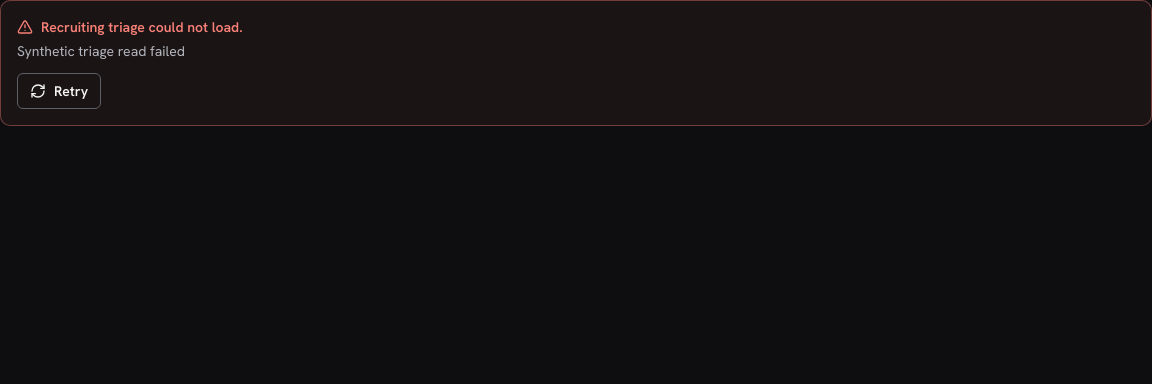
Scenario: Recruiting triage verified reads › shows a failed read with Retry rather than all-clear and can recover
Check: the message shows "Synthetic triage read failed", box x1=17 y1=42 x2=185 y2=60
Check: the text "Applicants shown" is not shown
Step 1. Click the button "Retry" → (59, 91), box x1=17 y1=73 x2=101 y2=109
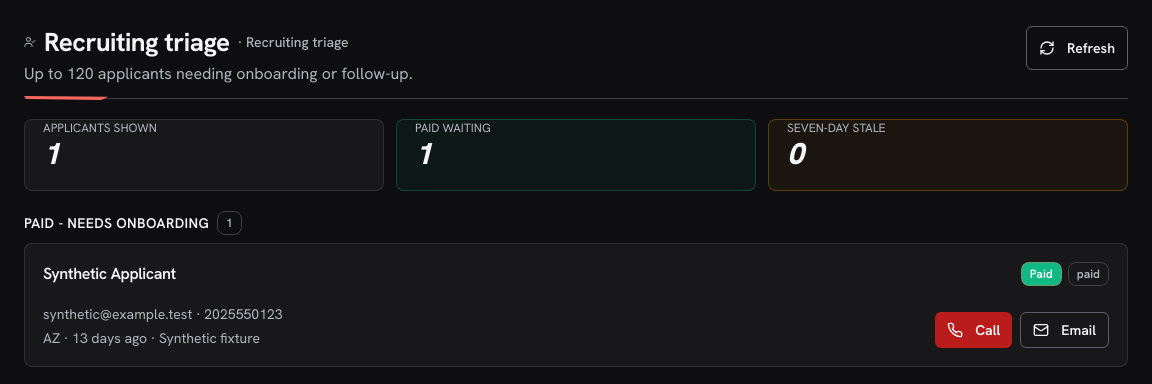
Check: the heading "Synthetic Applicant" is shown, box x1=43 y1=262 x2=176 y2=286
